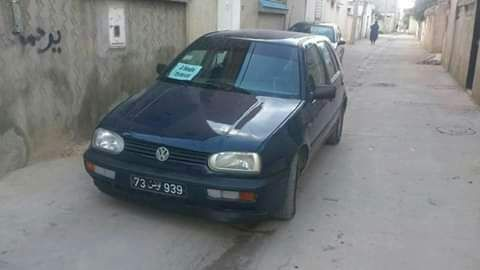LP: (130, 177, 184, 196)
